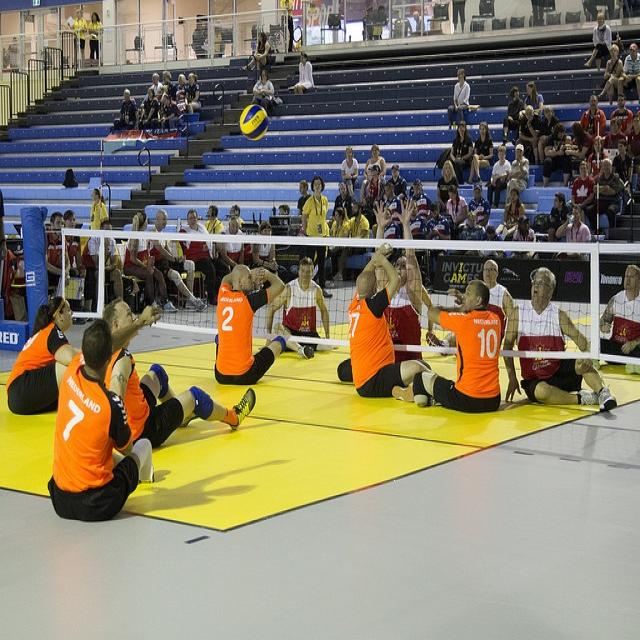body: (46, 303, 158, 526), (101, 294, 256, 450), (499, 264, 619, 414), (348, 241, 432, 405), (411, 277, 504, 415), (212, 258, 289, 388), (423, 258, 517, 362), (4, 294, 84, 416), (371, 195, 425, 365), (262, 252, 335, 360), (148, 208, 208, 312), (122, 208, 180, 314), (45, 210, 87, 328), (177, 208, 226, 308), (300, 174, 334, 300), (598, 264, 640, 366), (331, 201, 371, 284), (86, 219, 125, 301), (591, 156, 622, 239), (494, 186, 527, 260), (463, 117, 494, 185), (539, 121, 570, 189), (554, 204, 593, 258), (582, 12, 613, 78), (0, 181, 13, 331), (381, 180, 405, 260), (86, 186, 109, 269), (594, 42, 623, 106), (486, 144, 513, 210), (578, 91, 608, 149), (517, 103, 545, 165), (583, 132, 609, 198), (328, 205, 351, 279), (448, 120, 473, 186), (216, 215, 246, 270), (447, 67, 472, 132), (424, 201, 451, 259), (444, 182, 470, 242), (500, 84, 524, 148), (616, 41, 640, 104), (251, 220, 279, 274), (509, 214, 541, 261), (506, 141, 531, 200), (522, 78, 545, 142), (458, 210, 488, 259), (62, 209, 86, 270), (570, 162, 596, 218), (562, 120, 592, 165), (240, 30, 272, 72), (363, 164, 383, 230), (408, 176, 434, 226), (436, 158, 460, 212), (112, 86, 140, 132), (189, 14, 217, 60), (251, 67, 277, 116), (398, 199, 427, 241), (466, 182, 491, 228), (609, 92, 635, 136), (292, 52, 317, 96), (360, 1, 388, 40), (340, 144, 360, 198), (72, 6, 88, 70), (137, 86, 159, 132), (624, 113, 640, 175), (332, 180, 356, 220), (64, 4, 79, 68), (383, 164, 409, 200), (611, 136, 630, 184), (364, 142, 387, 180), (296, 177, 314, 225), (183, 71, 202, 115), (86, 11, 103, 60), (601, 118, 627, 150), (580, 0, 617, 22), (141, 70, 164, 104), (156, 94, 180, 126), (538, 105, 560, 137), (5, 35, 23, 74), (549, 192, 572, 222), (203, 204, 225, 235), (382, 208, 403, 240), (559, 131, 580, 160), (171, 72, 191, 102), (225, 202, 245, 232), (450, 0, 466, 36), (159, 69, 176, 101), (480, 222, 505, 242), (0, 44, 10, 91), (286, 6, 295, 55), (274, 200, 293, 219), (411, 10, 426, 32)
